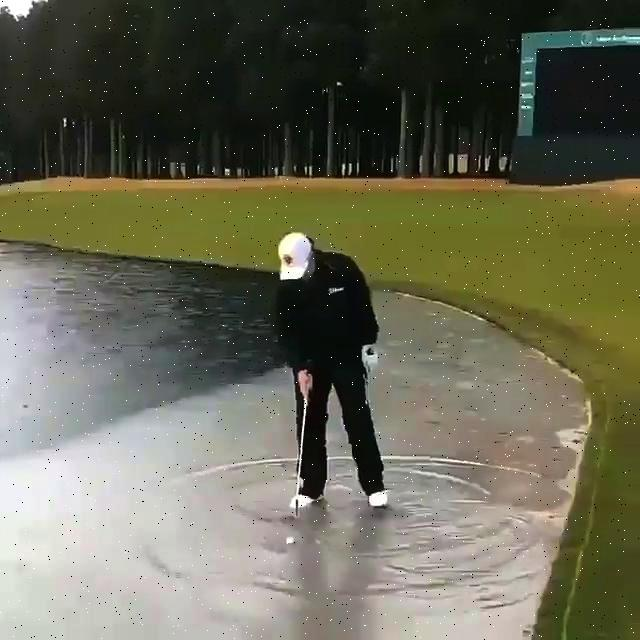golf ball: (285, 537, 294, 544)
golf club-handle: (295, 395, 307, 517)
